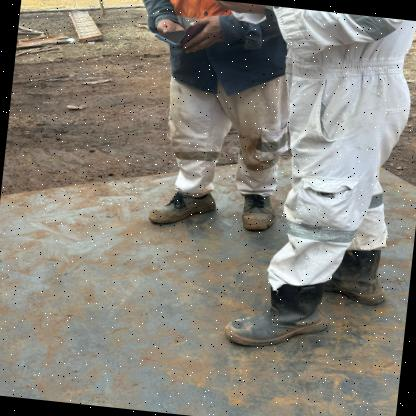bota: (215, 266, 341, 353), (324, 241, 405, 317), (143, 183, 221, 232), (228, 187, 283, 236)
